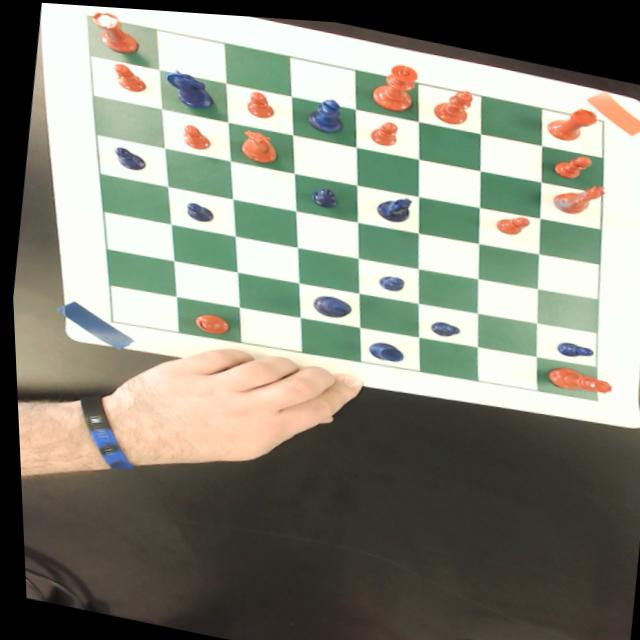B: (303, 90, 346, 131)
K: (308, 287, 352, 316)
N: (162, 65, 217, 109), (374, 187, 412, 219)
P: (110, 143, 147, 170), (552, 331, 594, 353), (307, 179, 339, 204), (182, 197, 214, 221), (426, 313, 461, 333), (376, 267, 404, 288)
R: (365, 334, 401, 358)
b: (429, 77, 476, 121), (188, 307, 229, 334)
k: (368, 53, 420, 109)
n: (547, 167, 608, 212), (236, 123, 280, 162)
p: (549, 141, 593, 175), (109, 59, 148, 92), (243, 84, 277, 117), (366, 111, 400, 143), (177, 119, 213, 148), (493, 204, 530, 230)
q: (542, 356, 611, 389)
r: (84, 6, 145, 54), (543, 93, 600, 139)
